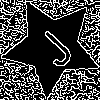J: (26, 21, 77, 71)
